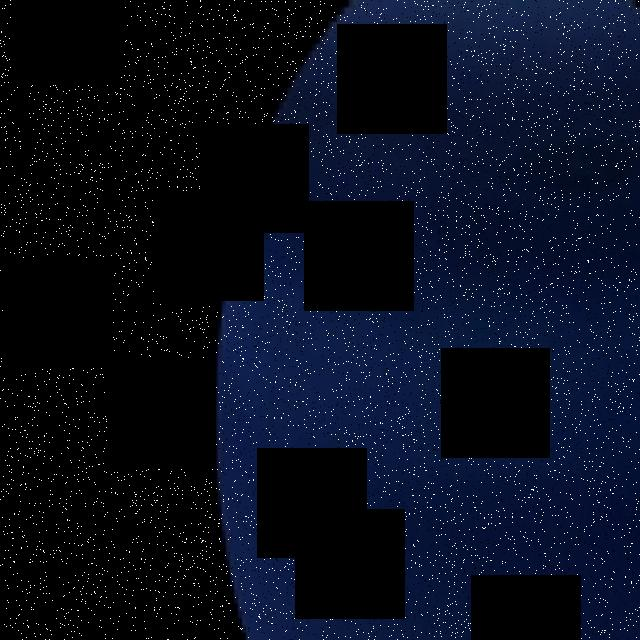Neptune: (209, 0, 640, 640)
